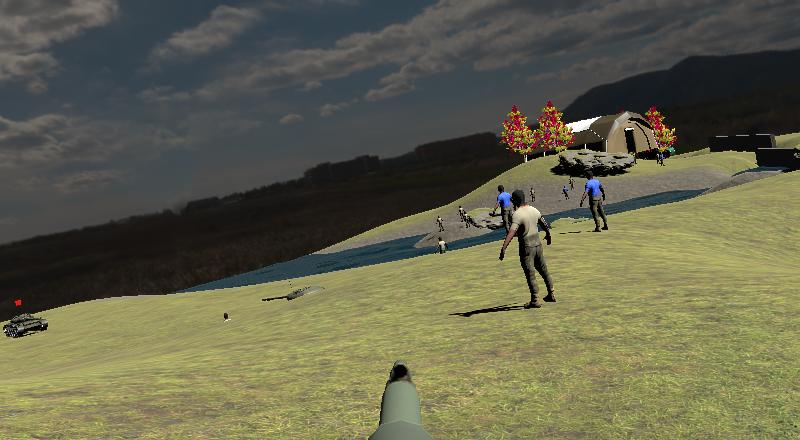Human: (495, 185, 560, 312), (579, 167, 611, 235), (492, 184, 519, 235), (434, 235, 449, 258)
Tank: (1, 310, 52, 341)
